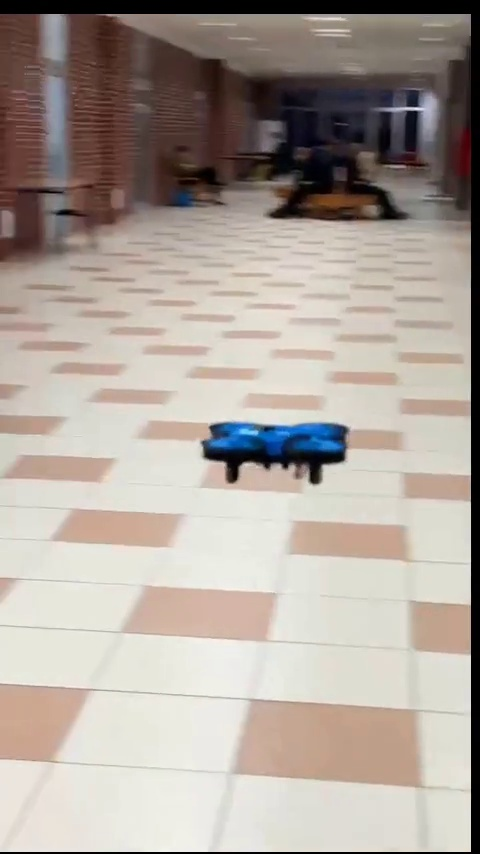drone: (195, 416, 350, 479)
